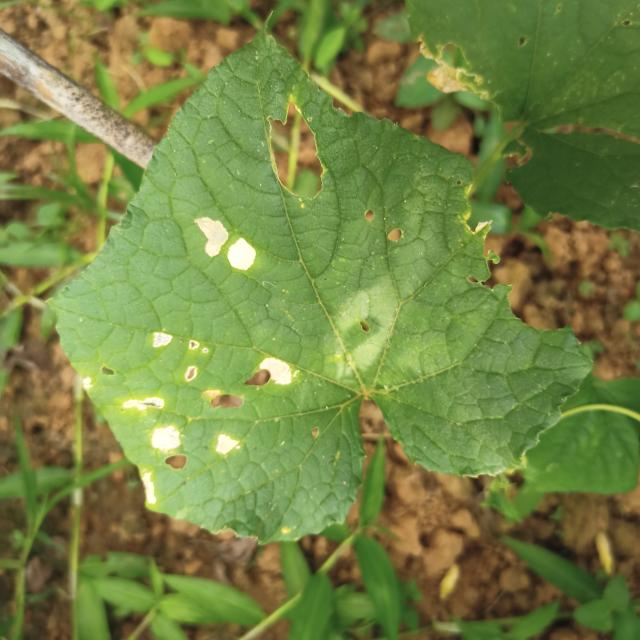disease_cucumber: (123, 332, 291, 502), (195, 217, 254, 270)
